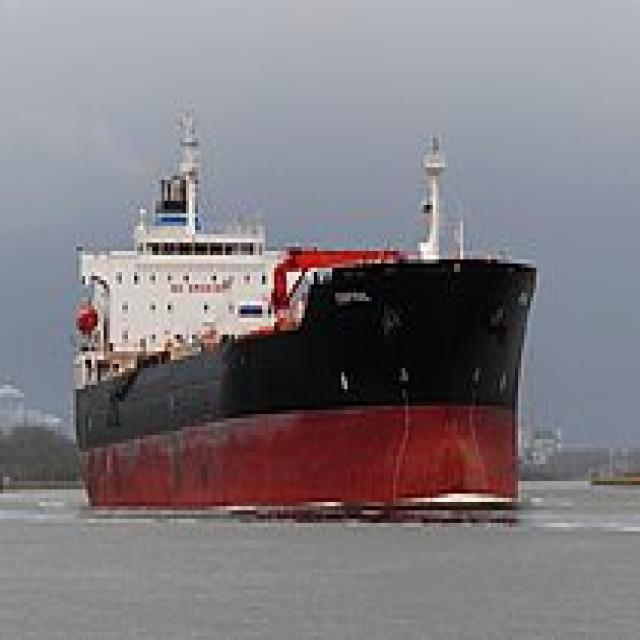Tanker: (70, 105, 536, 502)
